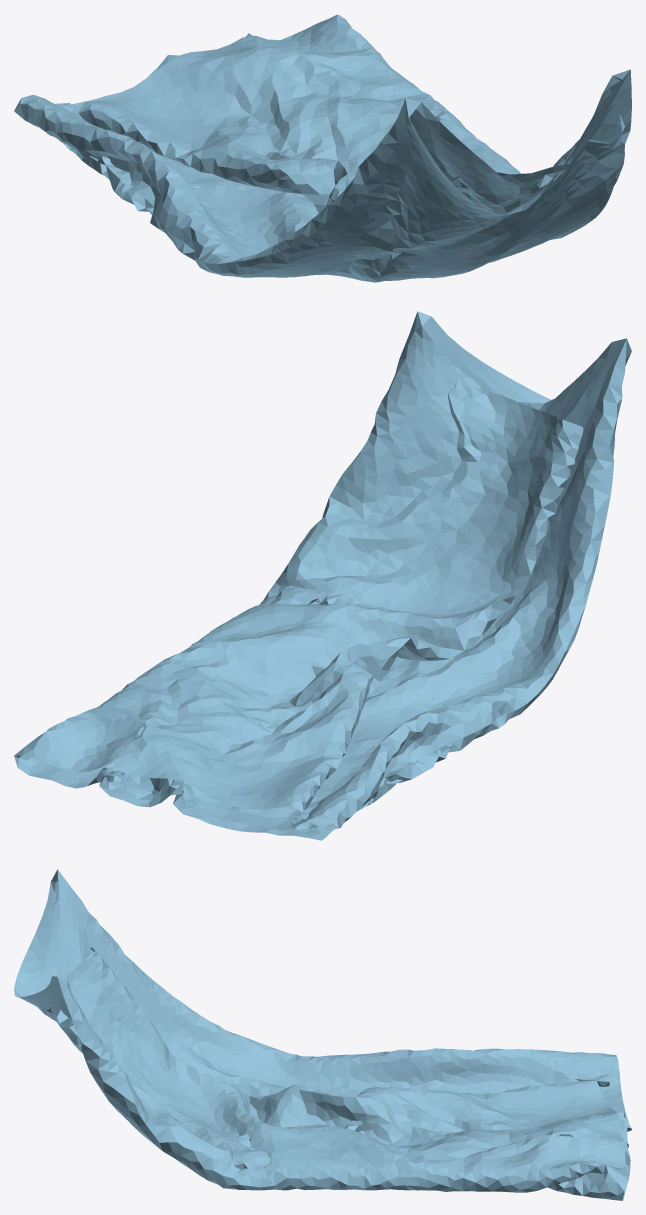
The model's file is frame_04.glb.
The picture shows the model from 3 angles, top to bottom: view 1: azimuth 30°, elevation 25°; view 2: azimuth 150°, elevation 25°; view 3: azimuth 270°, elevation 25°; orthographic projection. The views are drawn at different scales.
Parts seen in each view (by area): view 1: frame_04.obj; view 2: frame_04.obj; view 3: frame_04.obj.
Boxes of the visible parts, x1=… form: frame_04.obj: x1=14, y1=14, x2=631, y2=282; frame_04.obj: x1=14, y1=311, x2=631, y2=840; frame_04.obj: x1=14, y1=869, x2=631, y2=1200.
Bounding box in the file's own units: 0.8839 × 0.6756 × 1.68.
